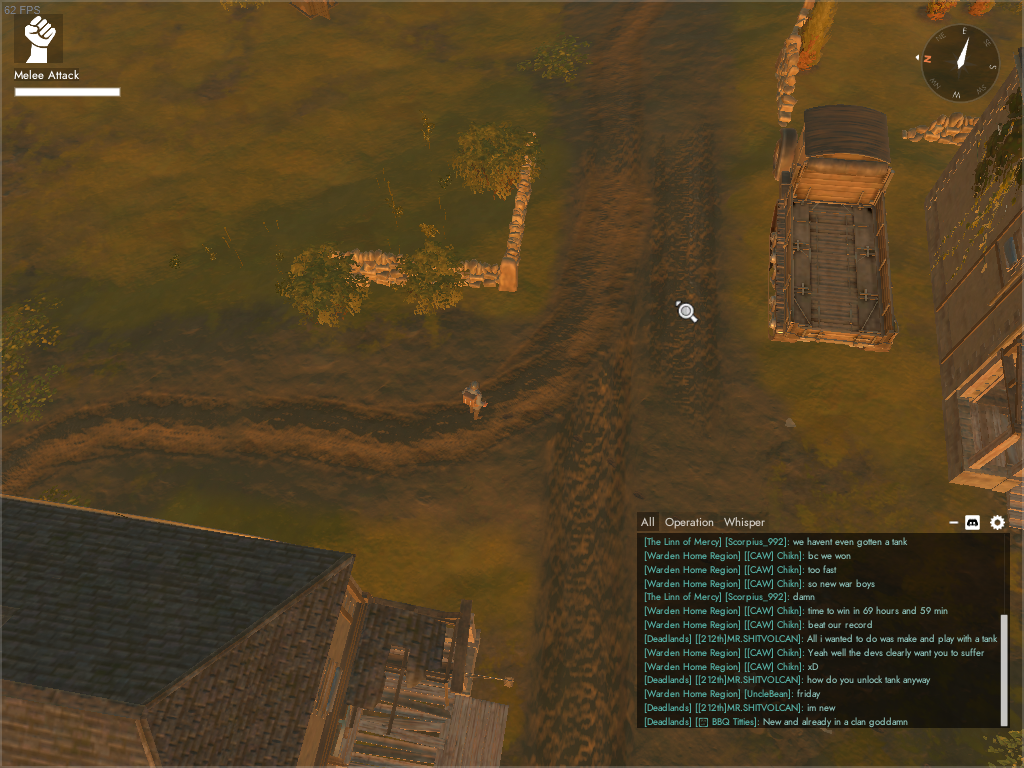flatbed: (764, 99, 905, 359)
player: (458, 376, 491, 424)
